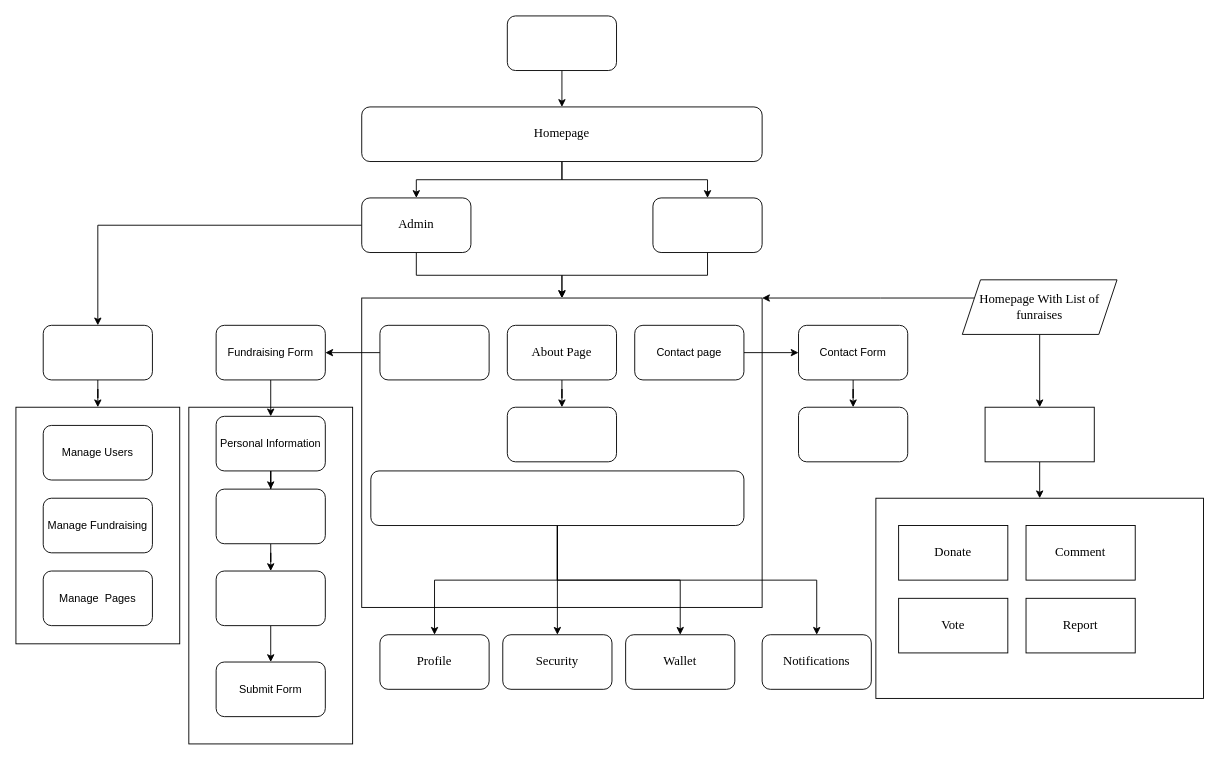
This 1219x760 diagram has some shape labels left out. Each missing label, with the box of its shape:
About information: (506, 406, 617, 462)
Admin Panel: (42, 324, 152, 380)
Create Fundraising: (379, 324, 489, 380)
Each Fundraising Request: (984, 406, 1094, 462)
Education Information: (215, 488, 325, 544)
Event Information: (215, 570, 325, 626)
Login: (506, 15, 617, 71)
Send Enquiry: (798, 406, 908, 462)
Settings Page: (370, 470, 744, 526)
User: (652, 197, 762, 253)
